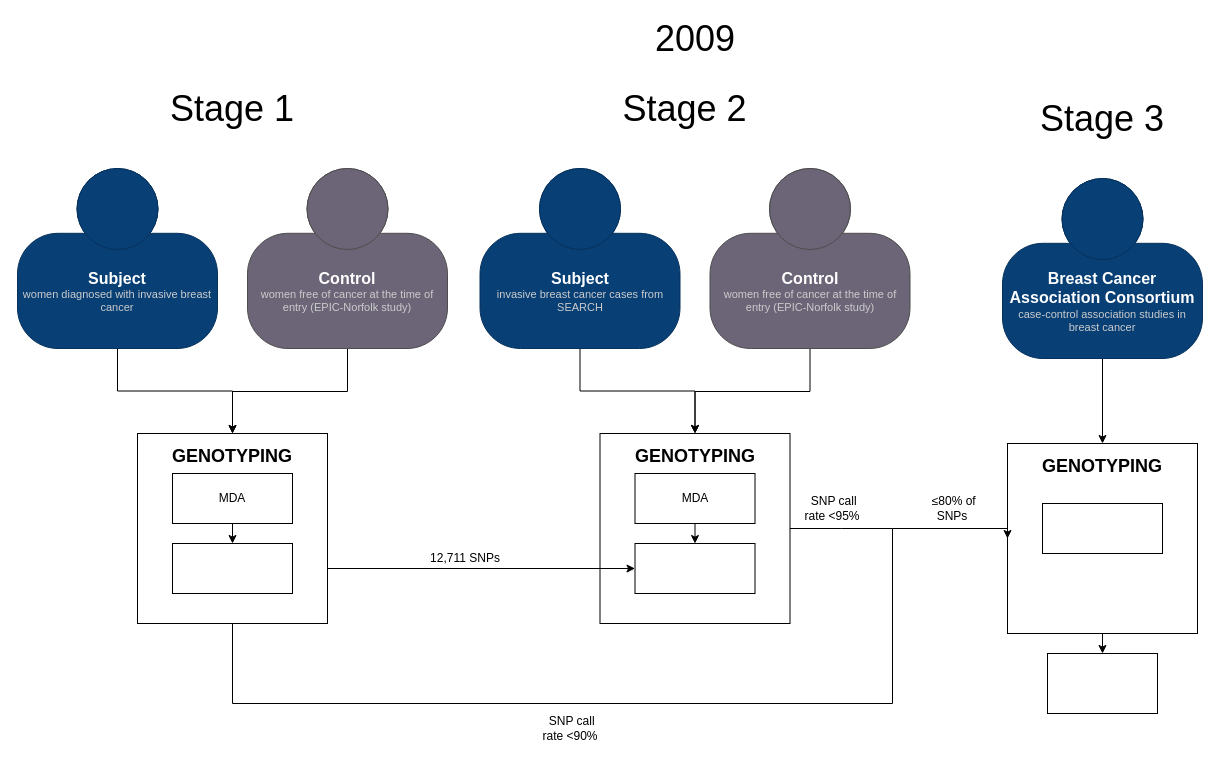
This 1220x761 diagram has some shape labels left out. Here are the shapes that lost their labels. From the top down, the box of each, then its label:
(1042, 502, 1162, 554): 5′ nuclease assay (Taqman)
(172, 542, 292, 594): Microarray (266,722 SNPs)
(634, 542, 755, 594): Microarray
(1046, 652, 1158, 714): FINE TUNNING/ SNP Selection
